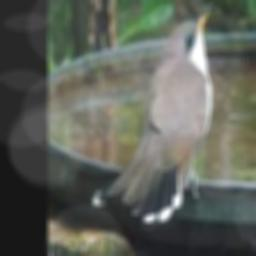Cuckoo: (94, 4, 215, 221)
